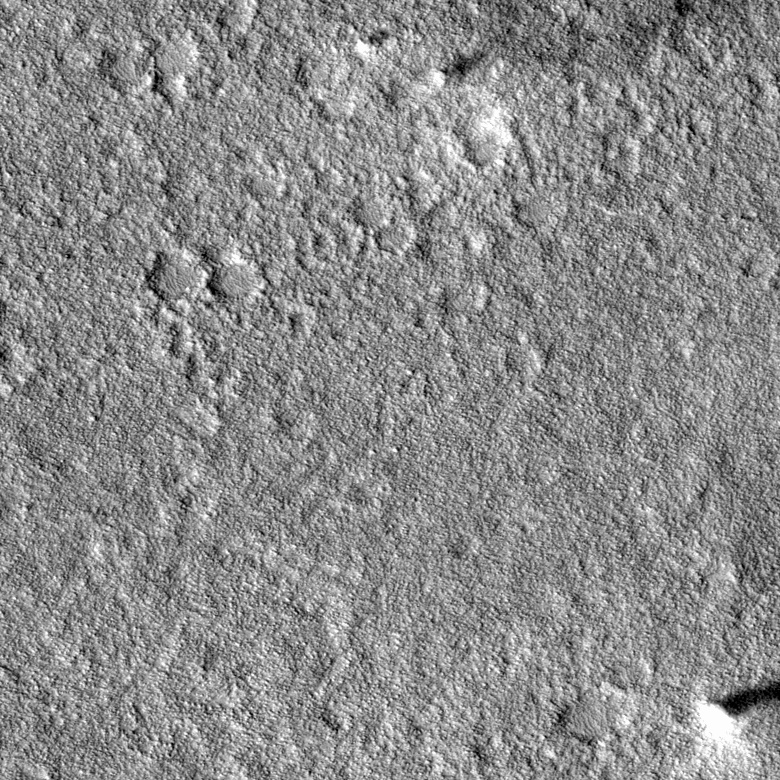dust_devil: (693, 676, 780, 754), (430, 45, 487, 89), (352, 27, 392, 59)
